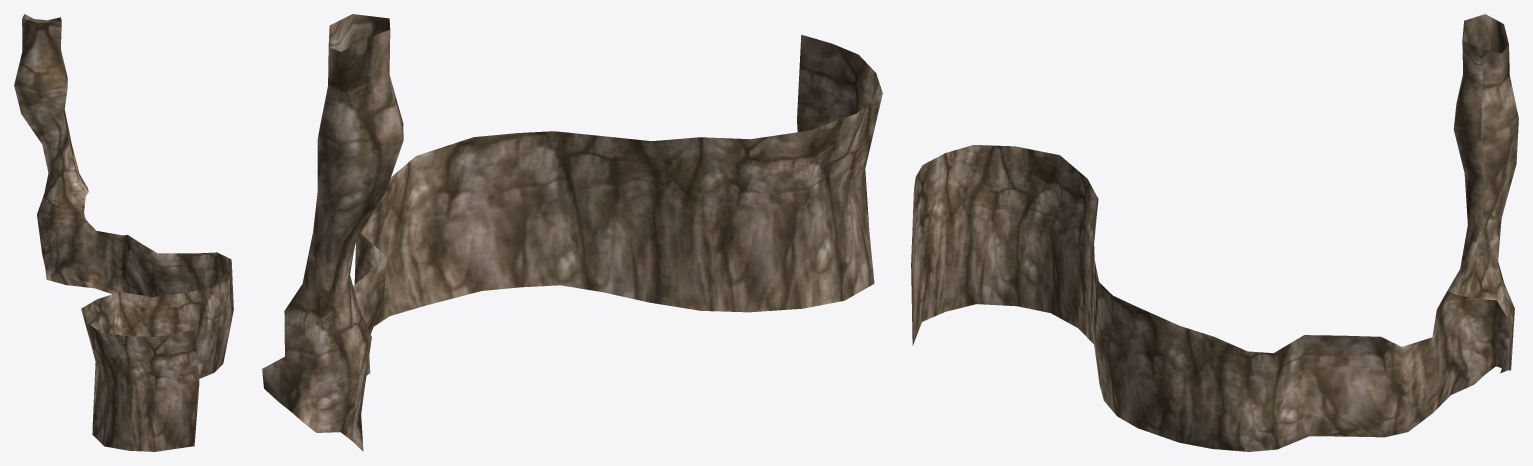
File: EKH_THRONE_PS_TH_LAKE_WALL356.fbx
3 views of the same model, side by side, from view 1: azimuth 30°, elevation 25°; view 2: azimuth 150°, elevation 25°; view 3: azimuth 270°, elevation 25° (orthographic). The views are drawn at different scales.
Parts seen in each view (by area): view 1: EKH_THRONE_PS_TH_LAKE_WALL356; view 2: EKH_THRONE_PS_TH_LAKE_WALL356; view 3: EKH_THRONE_PS_TH_LAKE_WALL356.
Boxes of the visible parts, x1=… form: EKH_THRONE_PS_TH_LAKE_WALL356: x1=14, y1=14, x2=233, y2=451; EKH_THRONE_PS_TH_LAKE_WALL356: x1=262, y1=14, x2=882, y2=451; EKH_THRONE_PS_TH_LAKE_WALL356: x1=911, y1=14, x2=1518, y2=451.
Bounding box in the file's own units: 99101 × 119940 × 177303.
1 material, 1 textured.
